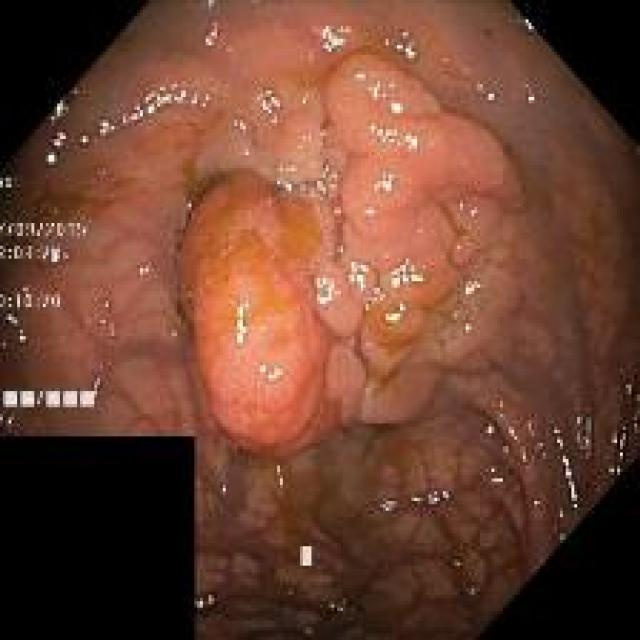Polyps: (178, 52, 535, 456)
